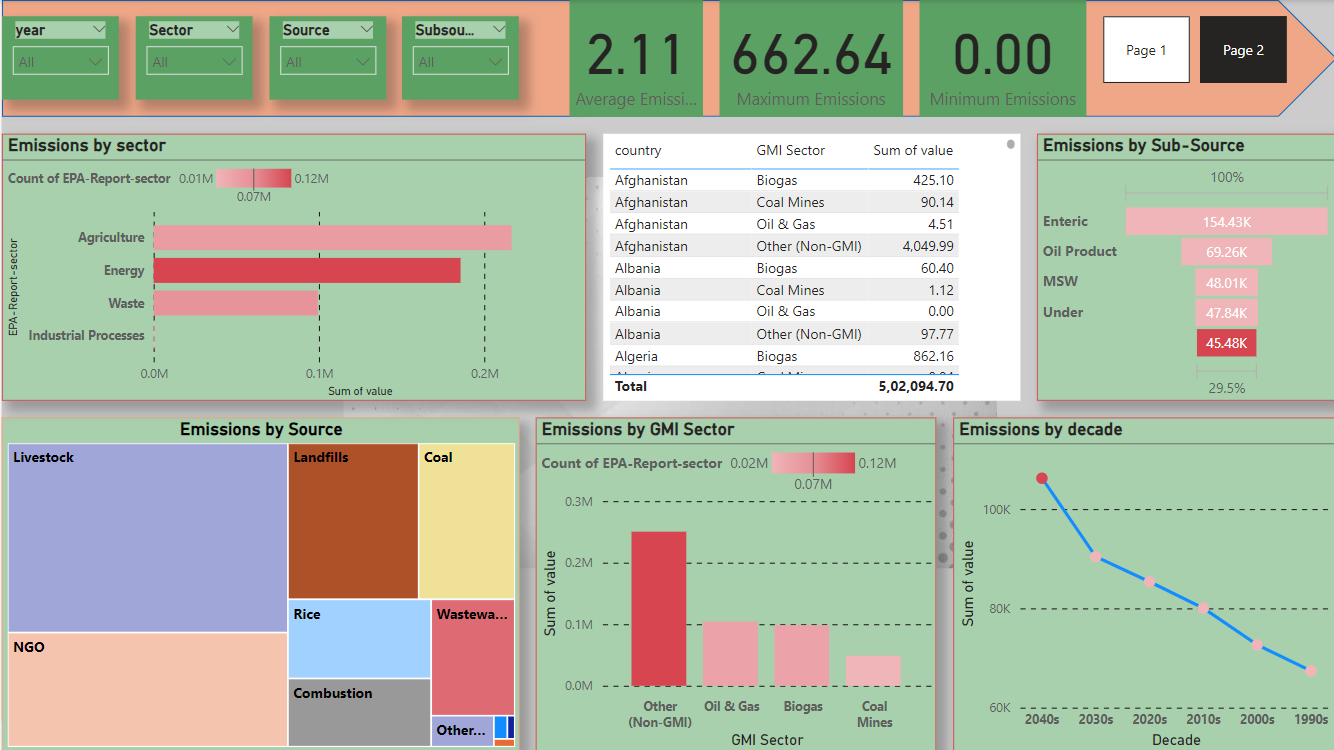

Layout of this report page (visuals, bound fields, positions):
{"tool":"powerbi","page":{"name":"Page 2","canvas":[1280,720],"ordinal":1},"visuals":[{"type":"treemap","title":"Emissions by Source","fields":{"Values":["Sum(gmimethane.value)"],"Group":["gmimethane.EPA-Report-source"]},"box":[0,400,496,320],"z":0},{"type":"shape","box":[0,0,1280,112],"z":1000},{"type":"barChart","title":"Emissions by sector","fields":{"Category":["gmimethane.EPA-Report-sector"],"Y":["Sum(gmimethane.value)"]},"box":[0,128,560,256],"z":2000},{"type":"slicer","fields":{"Values":["gmimethane.year"]},"box":[0,16,112,80],"z":3000},{"type":"slicer","fields":{"Values":["gmimethane.EPA-Report-sector"]},"box":[128,16,112,80],"z":4000},{"type":"slicer","fields":{"Values":["gmimethane.EPA-Report-source"]},"box":[256,16,112,80],"z":5000},{"type":"slicer","fields":{"Values":["gmimethane.EPA-Report-subsource"]},"box":[384,16,112,80],"z":6000},{"type":"pageNavigator","box":[1056,16,176,64],"z":7000},{"type":"card","fields":{"Values":["gmimethane.Average Value"]},"box":[544,0,128,112],"z":8000},{"type":"card","fields":{"Values":["gmimethane.Maximum Value"]},"box":[688,0,176,112],"z":9000},{"type":"card","fields":{"Values":["gmimethane.Minimum Emissions"]},"box":[880,0,160,112],"z":10000},{"type":"funnel","title":"Emissions by Sub-Source","fields":{"Y":["Sum(gmimethane.value)"],"Category":["gmimethane.EPA-Report-subsource"]},"box":[992,128,288,256],"z":10002},{"type":"columnChart","title":"Emissions by GMI Sector","fields":{"Category":["gmimethane.GMI Sector"],"Y":["Sum(gmimethane.value)"]},"box":[512,400,384,320],"z":10003},{"type":"lineChart","title":"Emissions by decade","fields":{"Y":["Sum(gmimethane.value)"],"Category":["gmimethane.Decade"]},"box":[912,400,368,320],"z":10004},{"type":"tableEx","fields":{"Values":["gmimethane.country","gmimethane.GMI Sector","Sum(gmimethane.value)"]},"box":[576,128,400,256],"z":10005}]}

Visuals, with their boxes in screenshot pixels (x1, y1, x2, y2), scaled from the page's 1280x720 canvas onto the 1334x750 screenshot:
"Emissions by Source" treemap: BBox(0, 417, 517, 749)
shape: BBox(0, 0, 1333, 117)
"Emissions by sector" barChart: BBox(0, 133, 584, 400)
slicer - gmimethane.year: BBox(0, 17, 117, 100)
slicer - gmimethane.EPA-Report-sector: BBox(133, 17, 250, 100)
slicer - gmimethane.EPA-Report-source: BBox(267, 17, 384, 100)
slicer - gmimethane.EPA-Report-subsource: BBox(400, 17, 517, 100)
pageNavigator: BBox(1101, 17, 1284, 83)
card - gmimethane.Average Value: BBox(567, 0, 700, 117)
card - gmimethane.Maximum Value: BBox(717, 0, 900, 117)
card - gmimethane.Minimum Emissions: BBox(917, 0, 1084, 117)
"Emissions by Sub-Source" funnel: BBox(1034, 133, 1333, 400)
"Emissions by GMI Sector" columnChart: BBox(534, 417, 934, 749)
"Emissions by decade" lineChart: BBox(950, 417, 1333, 749)
tableEx - gmimethane.country x gmimethane.GMI Sector: BBox(600, 133, 1017, 400)
